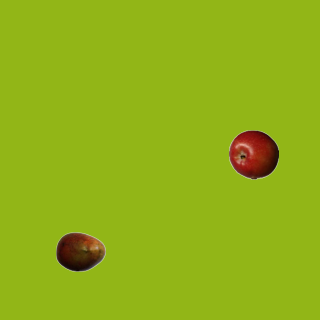Apple Braeburn: (228, 129, 278, 179)
Mango Red: (55, 226, 105, 276)
